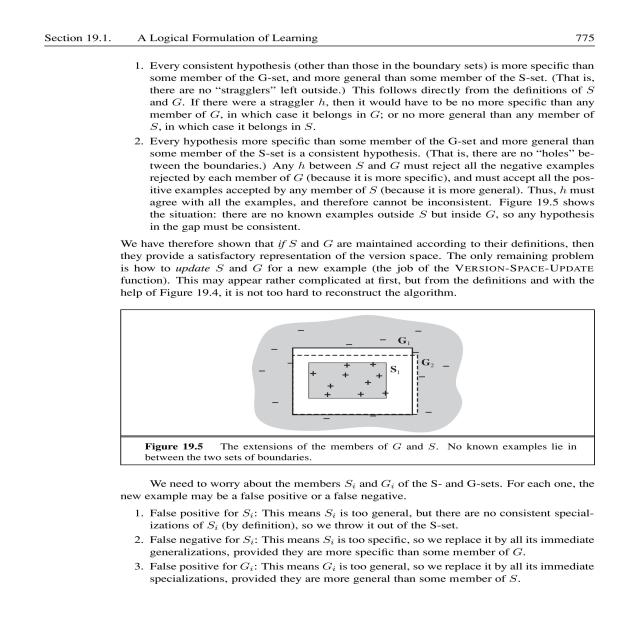diagram: (97, 301, 626, 470)
